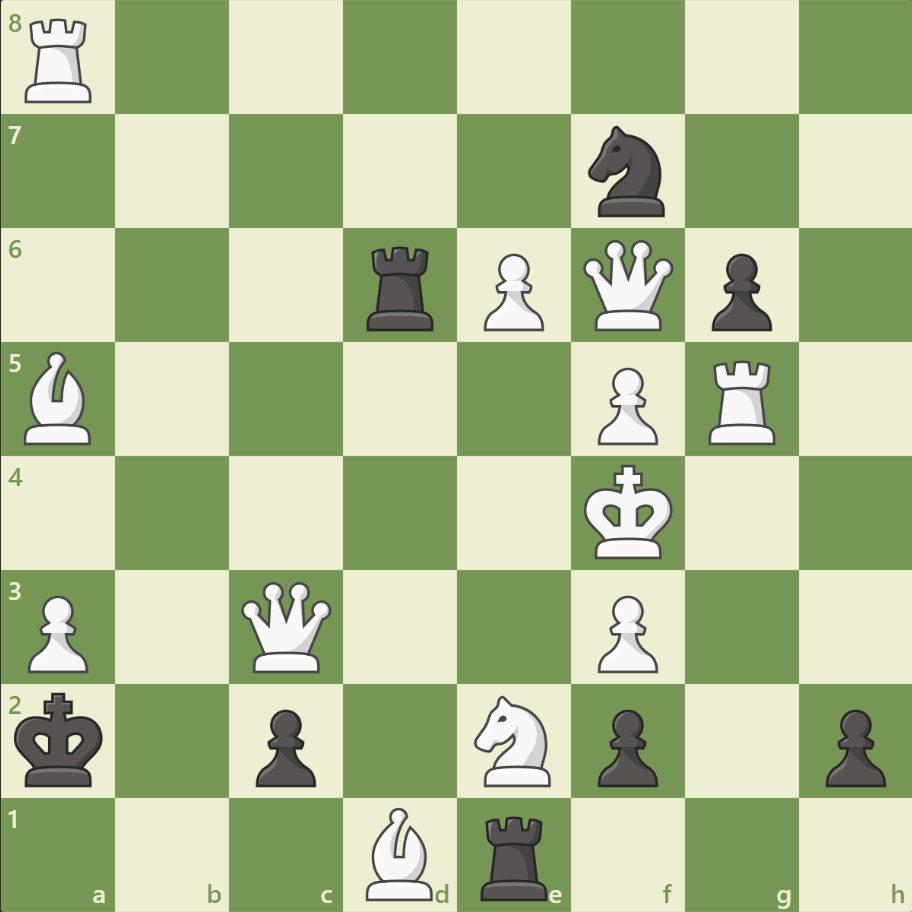B: (358, 801, 442, 904), (17, 347, 101, 449)
K: (579, 458, 679, 566)
N: (465, 688, 562, 791)
P: (474, 246, 549, 337), (20, 586, 95, 677), (588, 359, 662, 450), (588, 586, 662, 677)
Q: (237, 576, 336, 676), (578, 236, 677, 335)
R: (19, 12, 102, 109), (700, 352, 783, 449)
k: (11, 685, 111, 793)
n: (579, 121, 676, 223)
p: (701, 246, 776, 337), (247, 700, 322, 791), (588, 700, 662, 791), (815, 700, 889, 791)
r: (473, 806, 556, 904), (360, 239, 442, 336)
